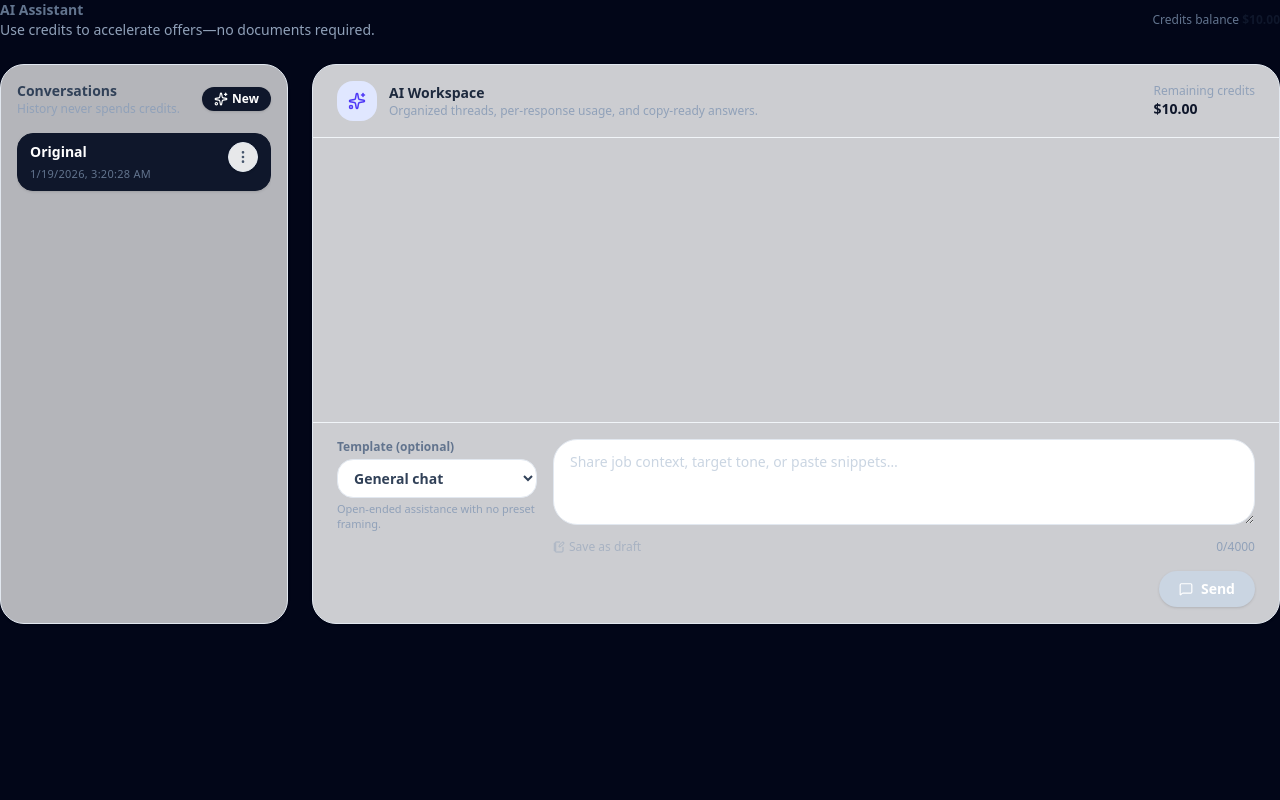
it: AIAssistantPage › renames a conversation
This screenshot has width=1280, height=800.
Click the button named "Conversation actions": (243, 157) [228,142,258,172]
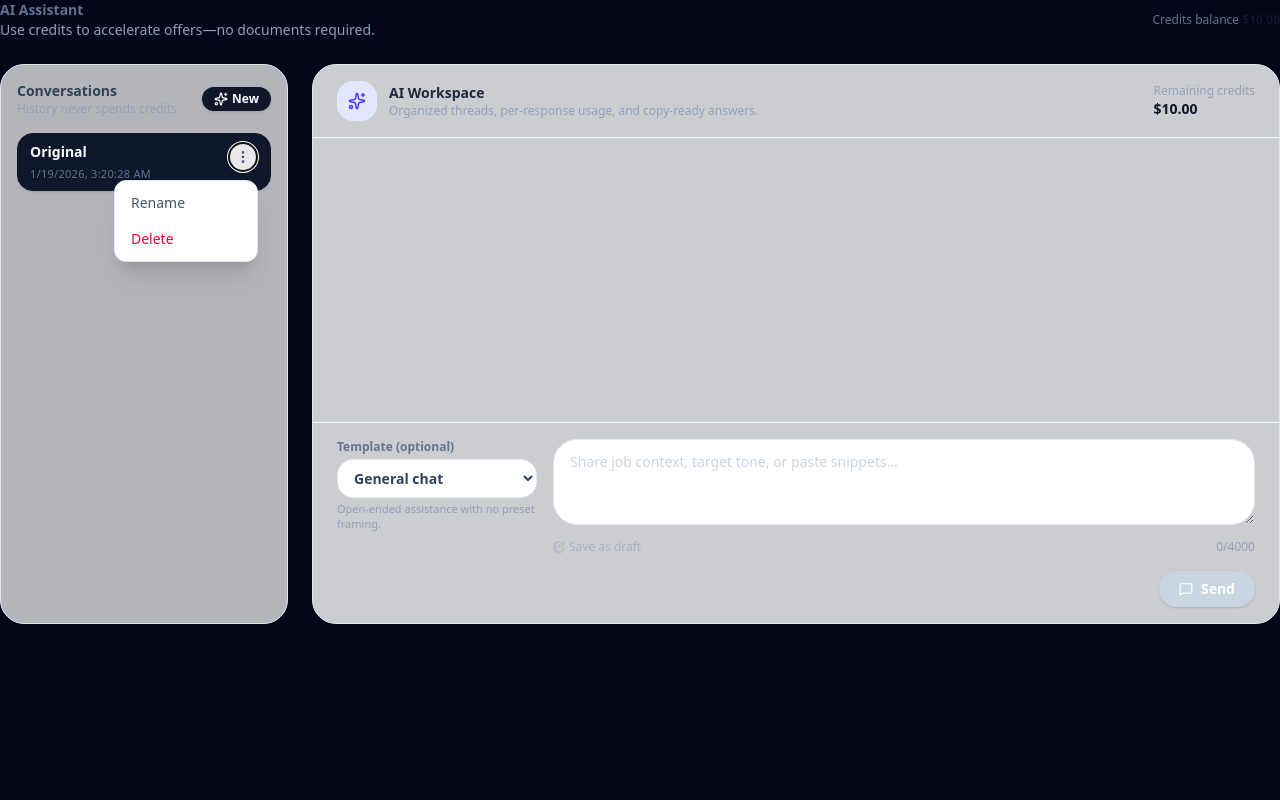
Click the button "Rename": (186, 203) [119,185,253,221]
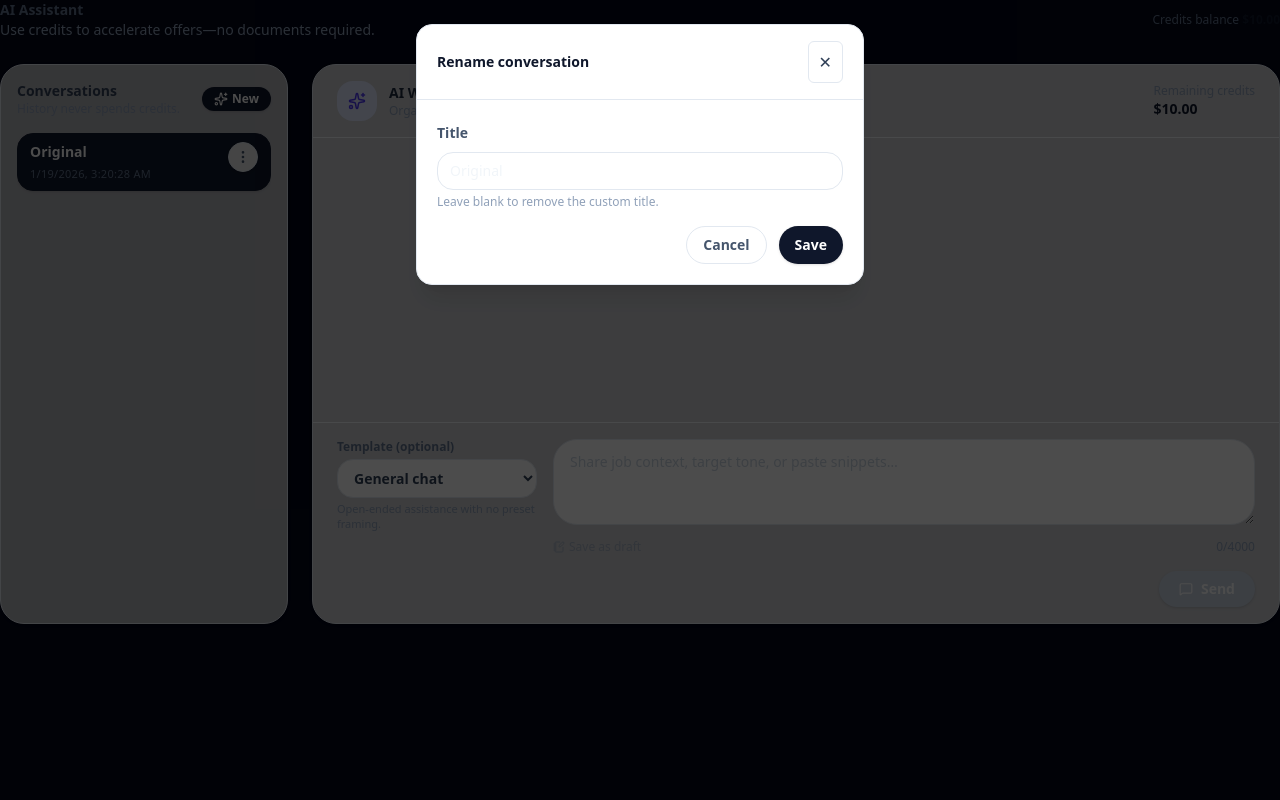
Replace the text in the field labelled "Title" with "Updated": (640, 171) [437,152,843,190]
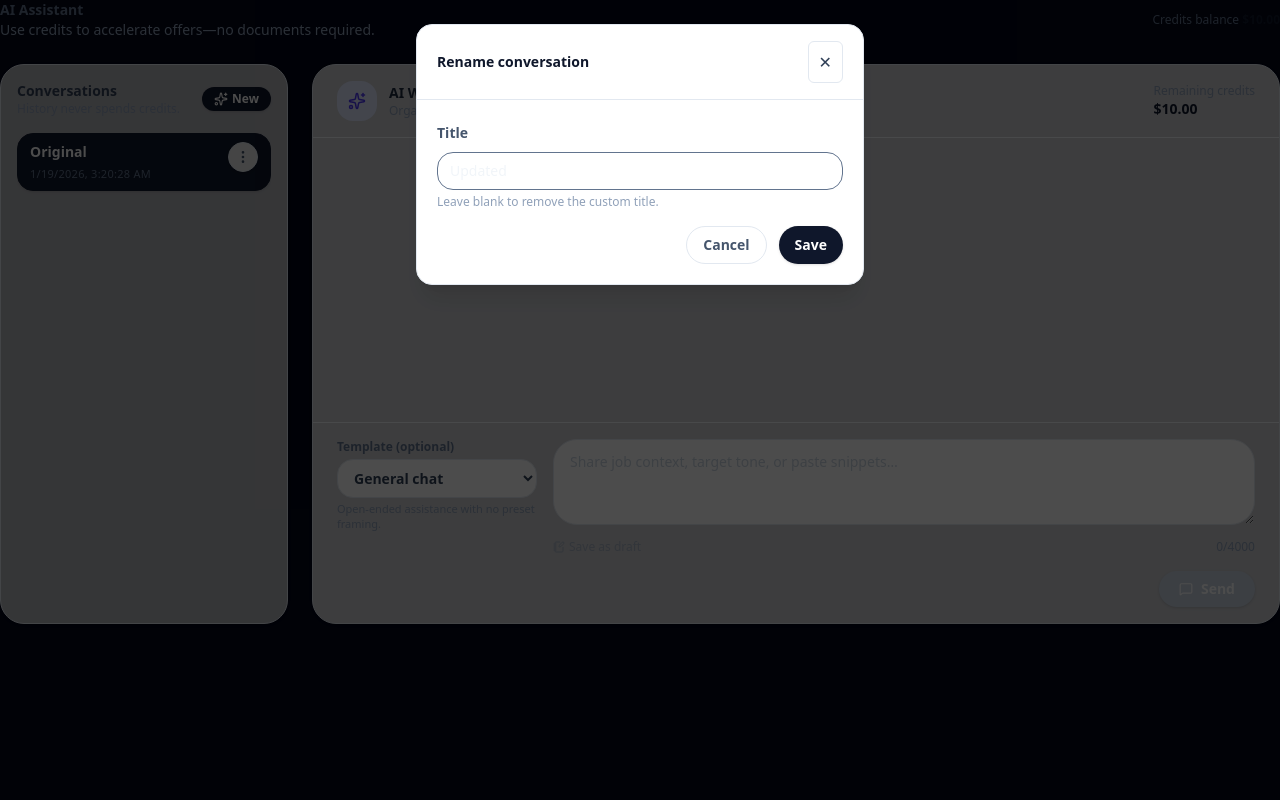
Click the button "Save": (811, 245) [779,226,843,264]
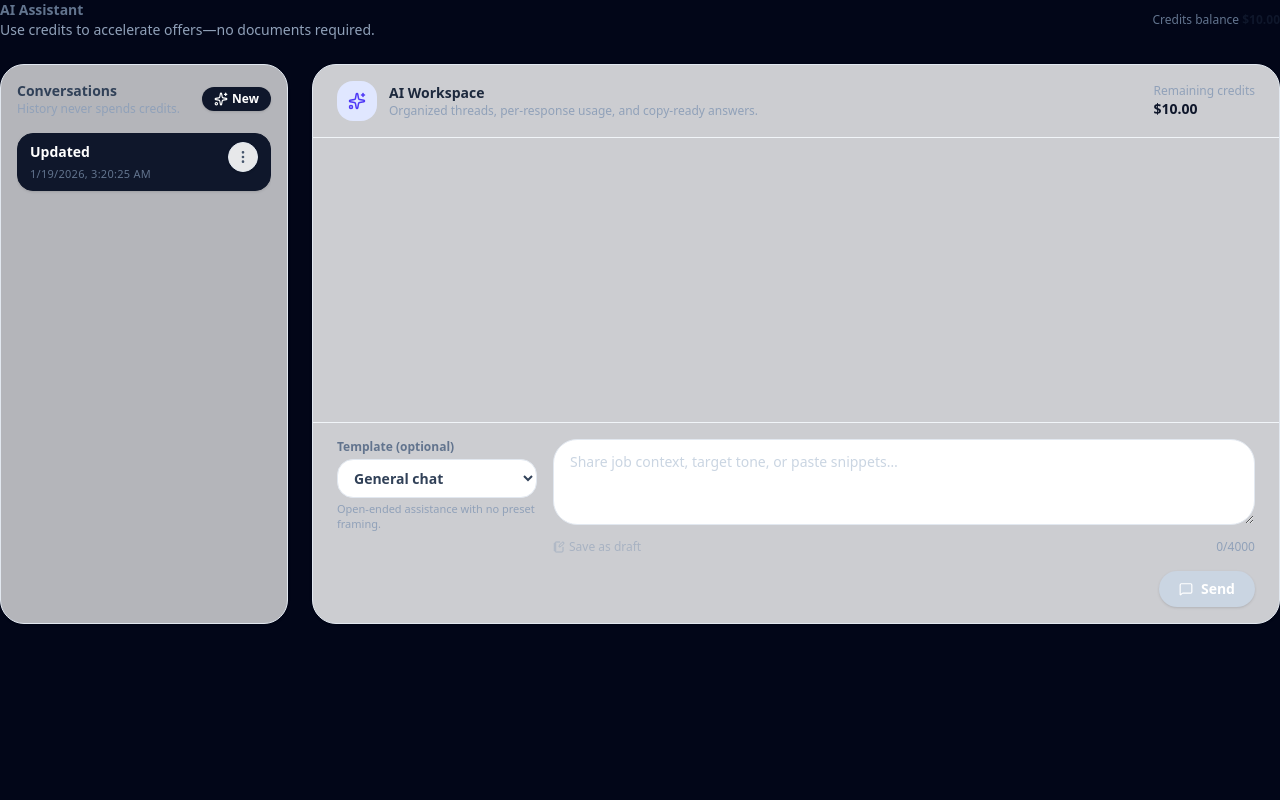
Expected: the text "Updated" is shown, [30,142,90,161]
